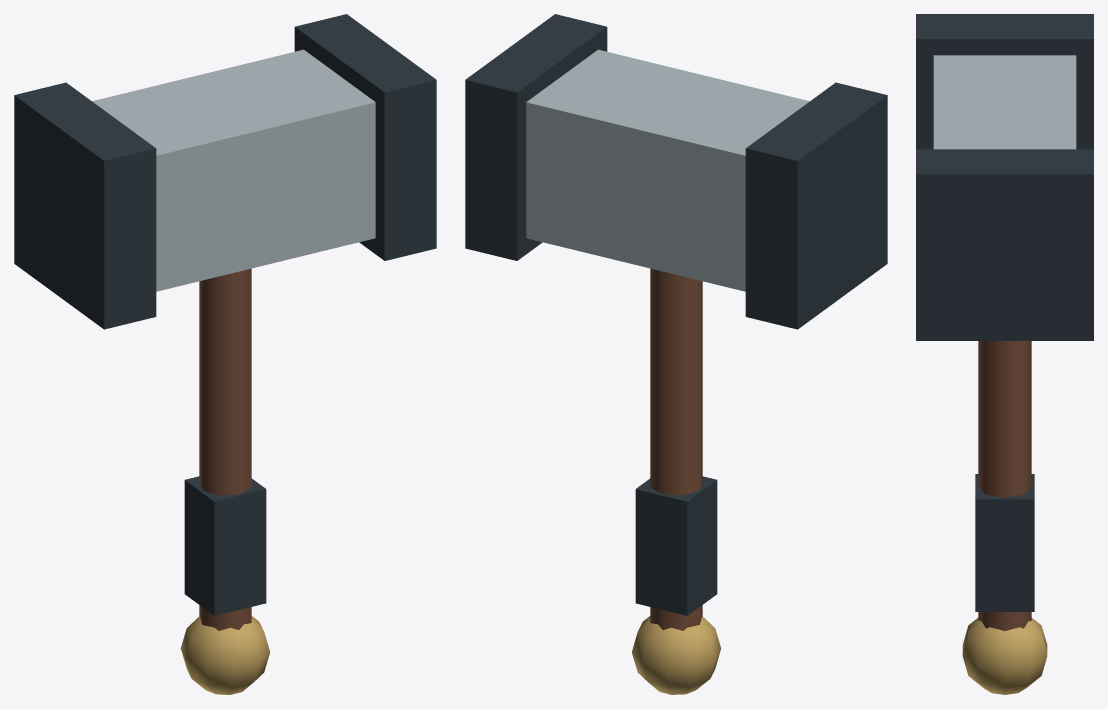
File: fixed-maul.glb
3 renders of one model, left to right at view 1: azimuth 30°, elevation 25°; view 2: azimuth 150°, elevation 25°; view 3: azimuth 270°, elevation 25°, orthographic.
Parts seen in each view (by area): view 1: piece_whole; view 2: piece_whole; view 3: piece_whole.
Boxes of the visible parts, x1=… form: piece_whole: x1=14, y1=14, x2=436, y2=694; piece_whole: x1=465, y1=14, x2=887, y2=694; piece_whole: x1=916, y1=14, x2=1093, y2=694.
Bounding box in the file's own units: 0.64 × 1.11 × 0.3.
